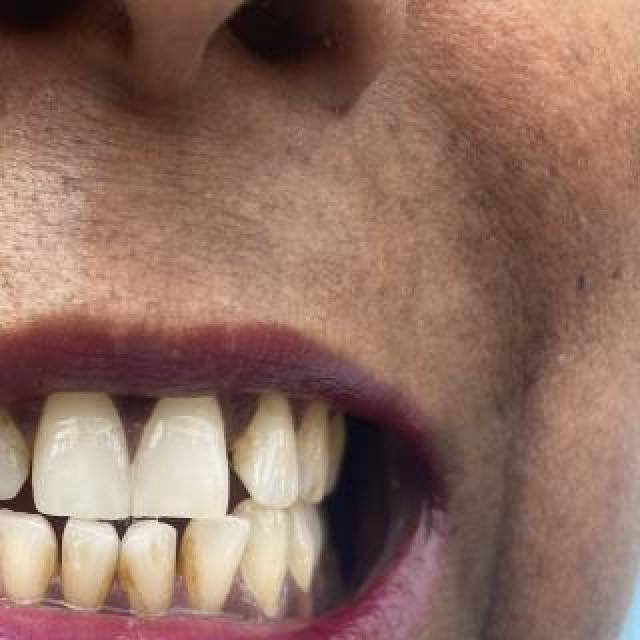maligned: (186, 502, 262, 616), (58, 501, 124, 597), (0, 498, 58, 594), (124, 512, 180, 600), (0, 496, 2, 582)
spacing: (18, 435, 66, 521), (214, 436, 250, 506), (165, 516, 197, 592), (41, 516, 71, 590)
stains: (176, 529, 216, 623), (110, 542, 160, 616), (66, 538, 114, 608), (20, 532, 68, 602), (222, 424, 254, 476)
